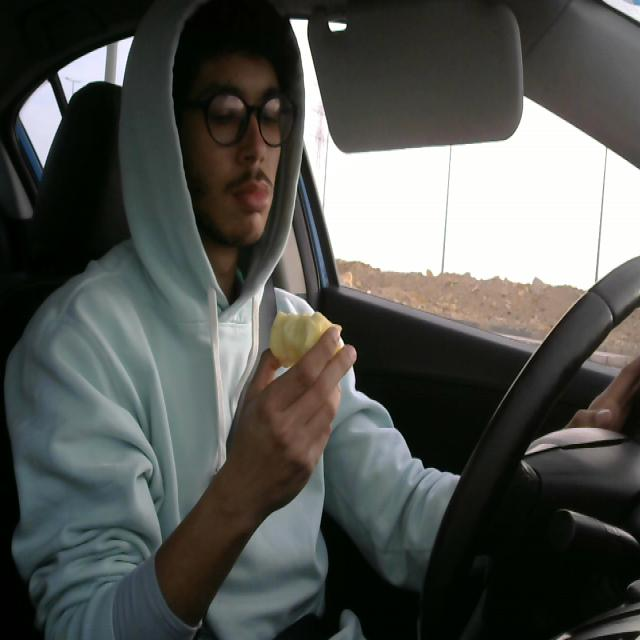eating: (266, 300, 344, 376)
